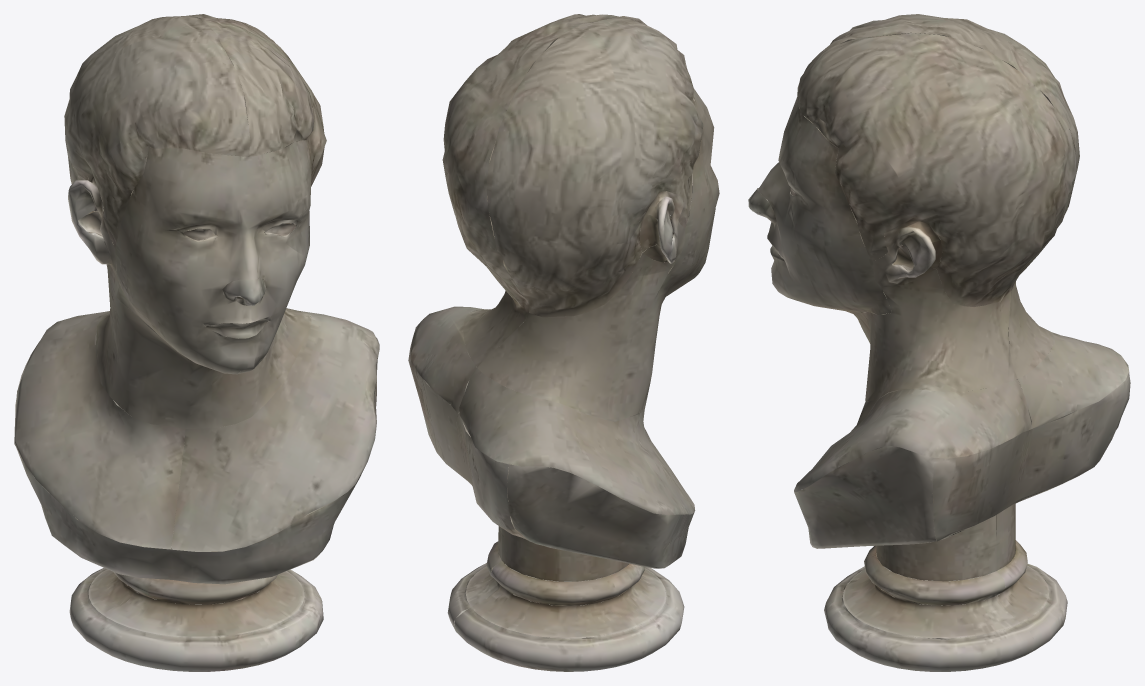
Rendered from ph_marble_bust_01.glb.
3 renders of one model, left to right at view 1: azimuth 30°, elevation 25°; view 2: azimuth 150°, elevation 25°; view 3: azimuth 270°, elevation 25°, orthographic. The views are drawn at different scales.
Parts seen in each view (by area): view 1: marble_bust_01; view 2: marble_bust_01; view 3: marble_bust_01.
Boxes of the visible parts, x1=… form: marble_bust_01: x1=14, y1=14, x2=379, y2=671; marble_bust_01: x1=408, y1=14, x2=719, y2=671; marble_bust_01: x1=748, y1=14, x2=1130, y2=671.
Size of the model in its own units: 0.2716 by 0.5151 by 0.2996.
Materials: 1 (1 with a texture image).
